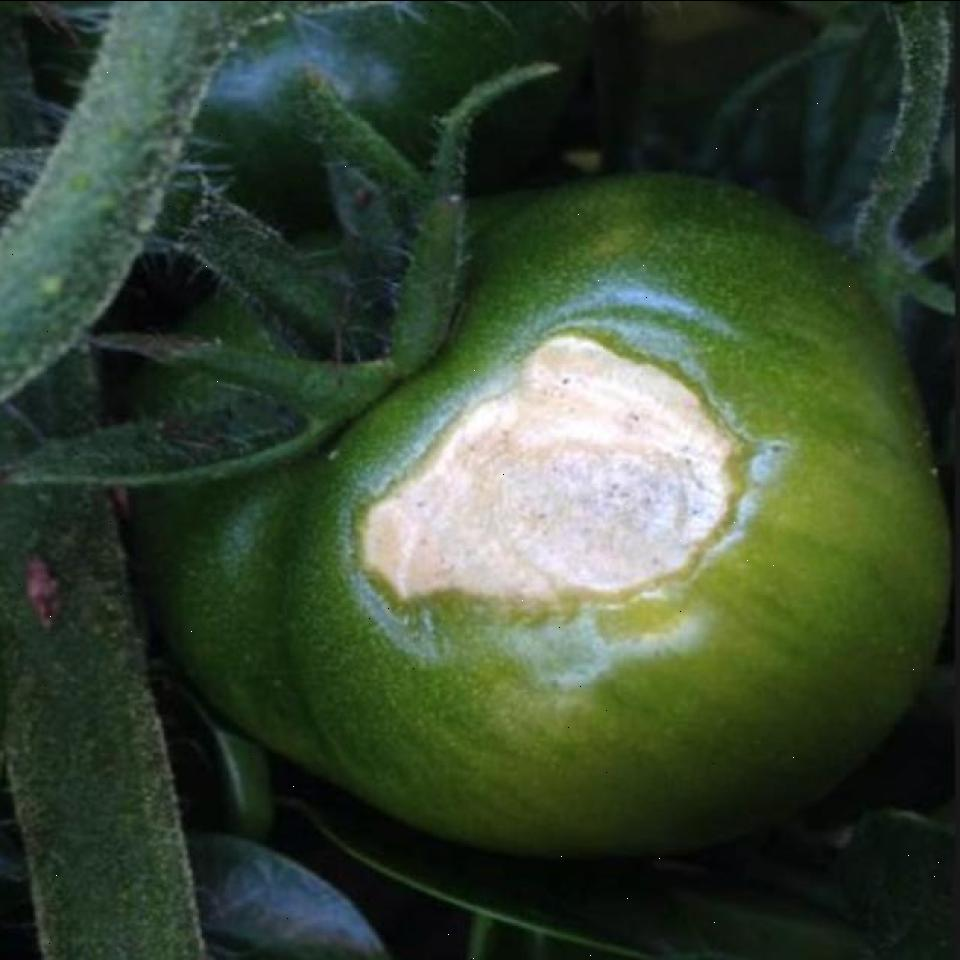Sunscald: (347, 304, 747, 666)
